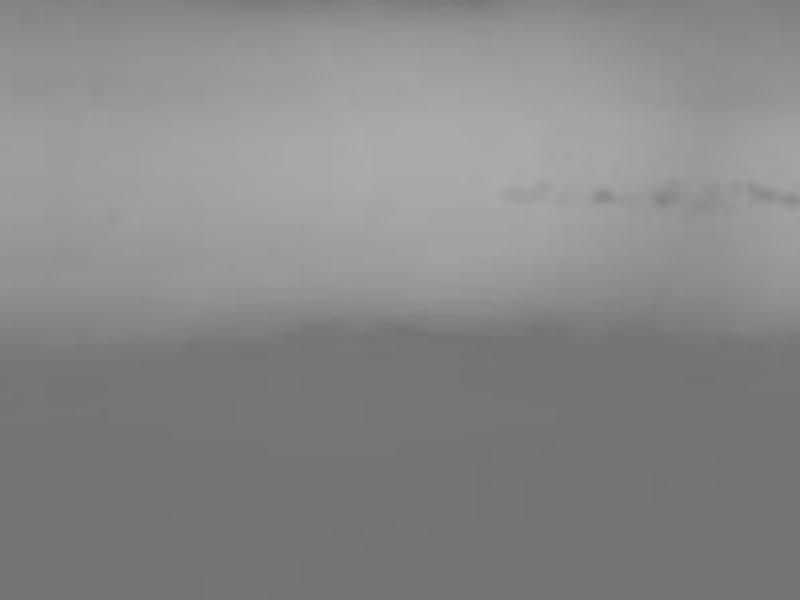defect: (648, 177, 685, 211), (496, 181, 527, 203), (750, 178, 774, 206), (532, 178, 554, 204), (695, 194, 717, 216), (589, 187, 611, 207), (777, 186, 795, 209), (729, 175, 745, 198)
